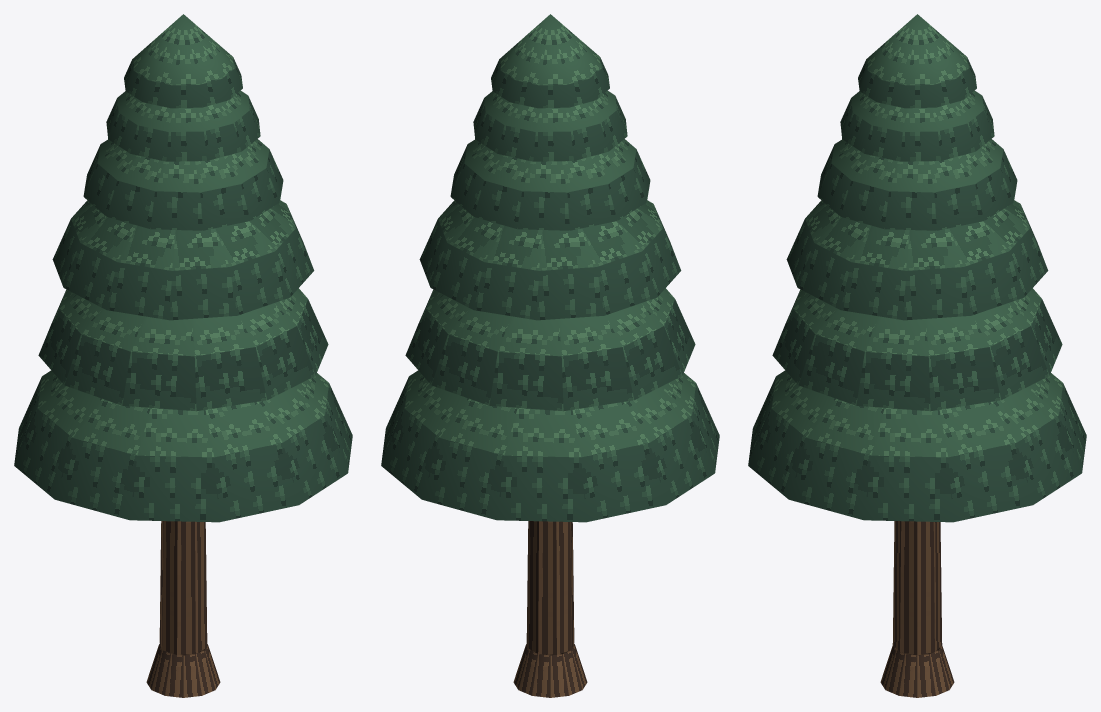
File: pine_9.glb
3 views of the same model, side by side, from view 1: azimuth 30°, elevation 25°; view 2: azimuth 150°, elevation 25°; view 3: azimuth 270°, elevation 25° (orthographic).
Parts seen in each view (by area): view 1: pine_10; view 2: pine_10; view 3: pine_10.
Part boxes in pixels (box(x1,y1,x2,y2)): pine_10: box(14, 14, 352, 697); pine_10: box(381, 14, 719, 697); pine_10: box(748, 14, 1086, 697).
Bounding box in the file's own units: 2.05 × 4.47 × 2.05.
Materials: 3 (3 with a texture image).
